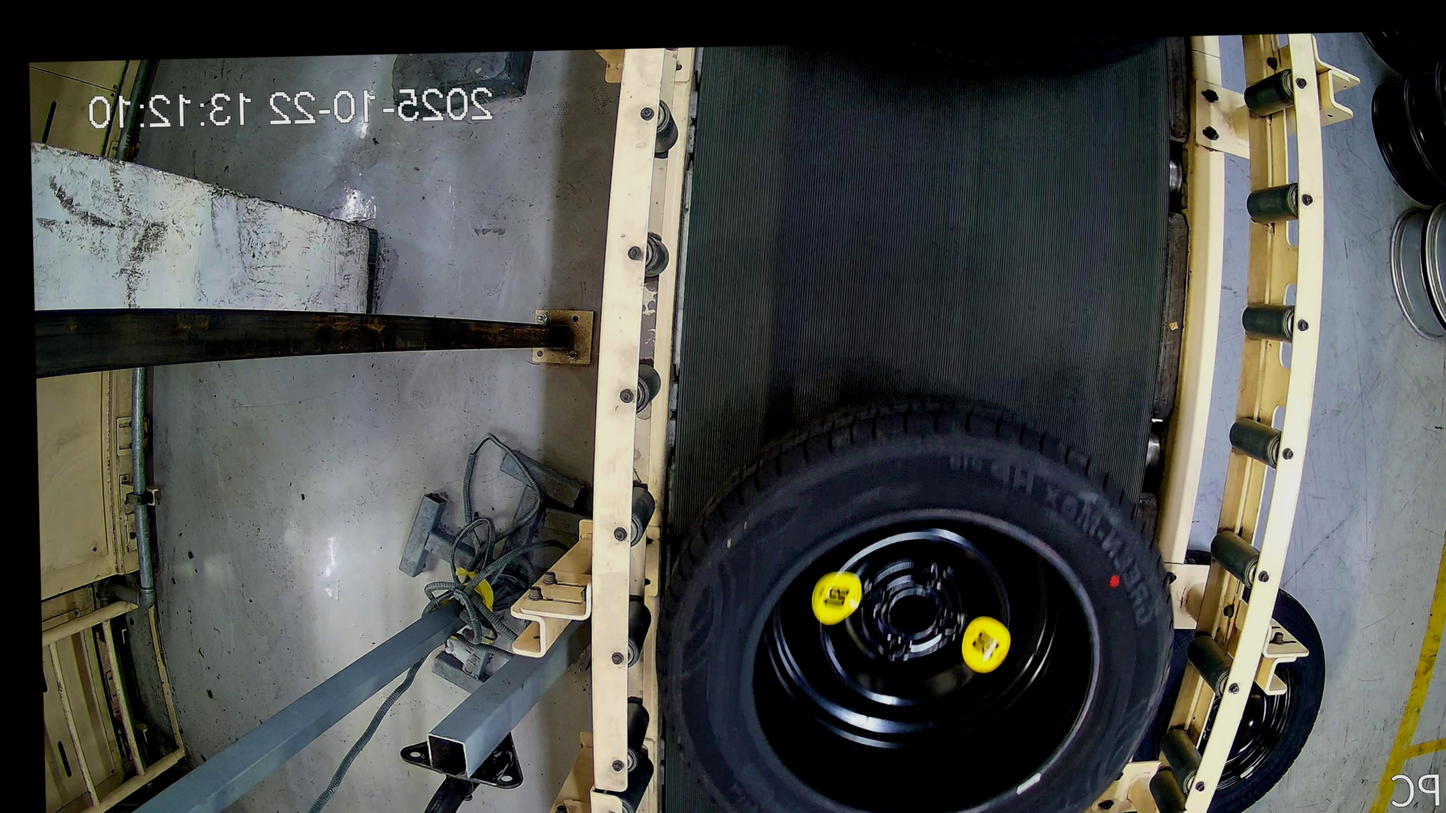80_label: (808, 568, 862, 624), (960, 613, 1011, 671)
simple_wheel: (761, 528, 1073, 759)
